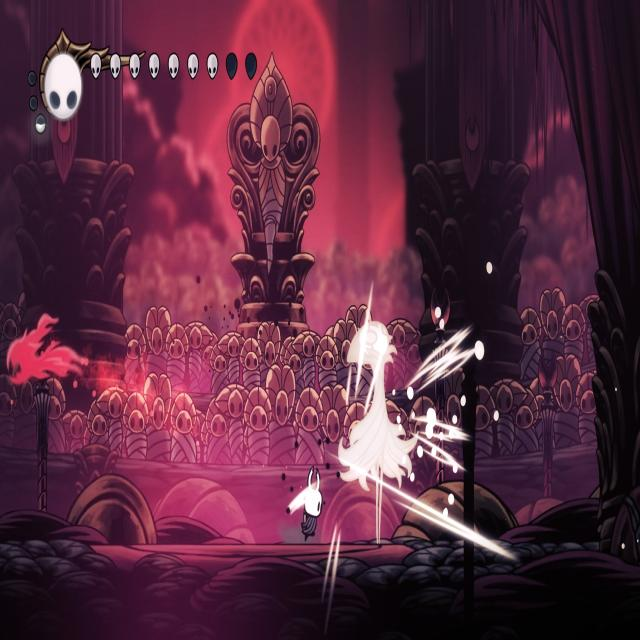Fire Bat: (3, 315, 74, 390)
Grimm: (334, 300, 416, 547)
Player: (292, 461, 327, 547)
